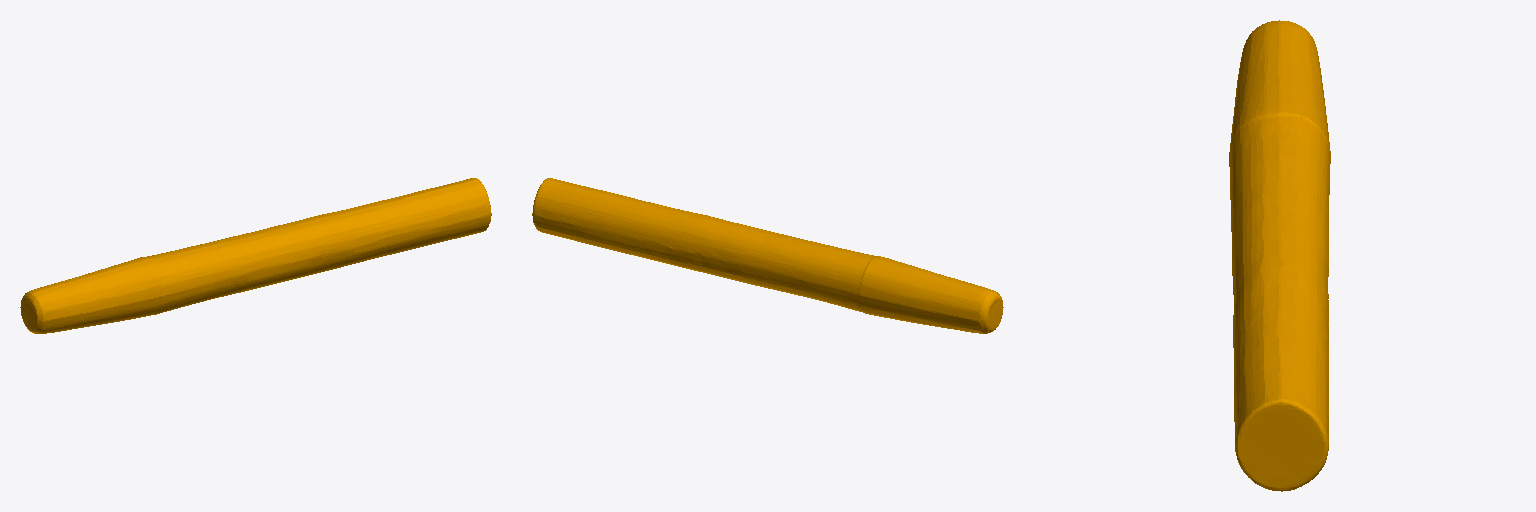
URDF robot description (sample):
<?xml version="1.0" ?>
<robot name="sample">
   <link name="sample">
      <visual>
         <origin xyz="0 0 0" rpy="1.5708 0.0 0.0"/>
         <geometry>
            <mesh filename="mesh/sample.obj" scale="1.0 1.0 1.0"/>
         </geometry>
      </visual>
      <collision>
         <origin xyz="0 0 0" rpy="1.5708 0.0 0.0"/>
         <geometry>
            <mesh filename="mesh/sample_collision.obj" scale="1.0 1.0 1.0"/>
         </geometry>
         <gazebo>
            <mu1>0.40</mu1>
            <mu2>0.30</mu2>
         </gazebo>
      </collision>
      <inertial>
         <mass value="0.0150"/>
         <origin xyz="0 0 0"/>
         <inertia ixx="1.0" ixy="0.0" ixz="0.0" iyy="1.0" iyz="0.0" izz="1.0"/>
      </inertial>
      <extra_info>
         <scale>0.188598</scale>
         <version>v0.1.7</version>
         <category>marker</category>
         <description>white cylindrical marker with colorful label</description>
         <min_height>0.018</min_height>
         <max_height>0.025</max_height>
         <real_height>0.0215</real_height>
         <min_mass>0.01</min_mass>
         <max_mass>0.02</max_mass>
         <generate_time>20260403140907</generate_time>
         <gs_model>mesh/sample_gs.ply</gs_model>
      </extra_info>
   </link>
   <custom_data>
      <quality>
         <MeshGeoChecker>NO: marker has inconsistent geometry and missing cap.</MeshGeoChecker>
         <ImageSegChecker>NO, object is incomplete and distorted with artifacts; not geometrically accurate or realistic.</ImageSegChecker>
         <ImageAestheticChecker>4.6959381103515625</ImageAestheticChecker>
         <overall>NO</overall>
      </quality>
   </custom_data>
</robot>

--- What the picture shows (computed from the rendered views, not written in the file) ---
3 views of the same robot in one strip: view 1: azimuth 30°, elevation 25°; view 2: azimuth 150°, elevation 25°; view 3: azimuth 270°, elevation 25° (orthographic).
Robot: sample — 1 links, 0 joints (none); root link sample; default pose: every joint at zero.
Visible links, largest first — view 1: sample; view 2: sample; view 3: sample.
Link boxes in pixels (<box>): sample: <box>20,178,491,333</box>; sample: <box>532,178,1003,333</box>; sample: <box>1229,20,1330,491</box>.
Size in the robot's own frame: 0.1886 by 0.0207 by 0.0215 metres.
1 mesh visuals loaded from 1 distinct referenced files (1 OBJ).
